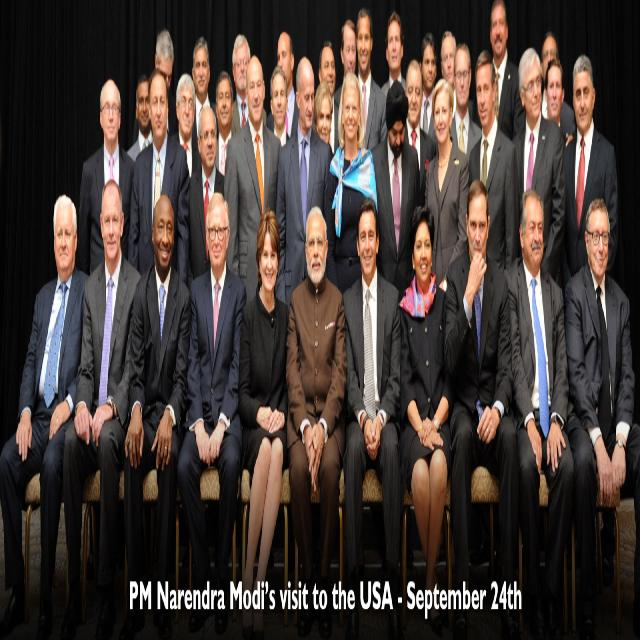body: (0, 188, 95, 639), (58, 173, 143, 639), (440, 174, 522, 639), (562, 189, 640, 639), (502, 179, 577, 639), (119, 189, 194, 639), (176, 190, 248, 635), (282, 198, 348, 639), (341, 194, 403, 640), (234, 204, 294, 639), (398, 202, 455, 640), (274, 56, 339, 312), (222, 50, 284, 312), (126, 65, 190, 284), (561, 49, 620, 284), (511, 45, 567, 287), (324, 68, 381, 294), (368, 78, 422, 306), (467, 48, 520, 278), (76, 78, 136, 278), (422, 76, 470, 293), (189, 102, 225, 280), (353, 5, 389, 150), (403, 58, 437, 210), (490, 0, 524, 141), (450, 42, 483, 164), (540, 31, 576, 142), (230, 32, 268, 137), (169, 72, 202, 182), (266, 28, 299, 138), (191, 34, 219, 163), (333, 16, 358, 151), (419, 29, 439, 158), (126, 70, 153, 164), (154, 27, 176, 140), (318, 37, 339, 155), (214, 70, 237, 176), (380, 9, 407, 99), (269, 63, 291, 150), (439, 28, 458, 119), (544, 56, 566, 132), (314, 81, 334, 158)
